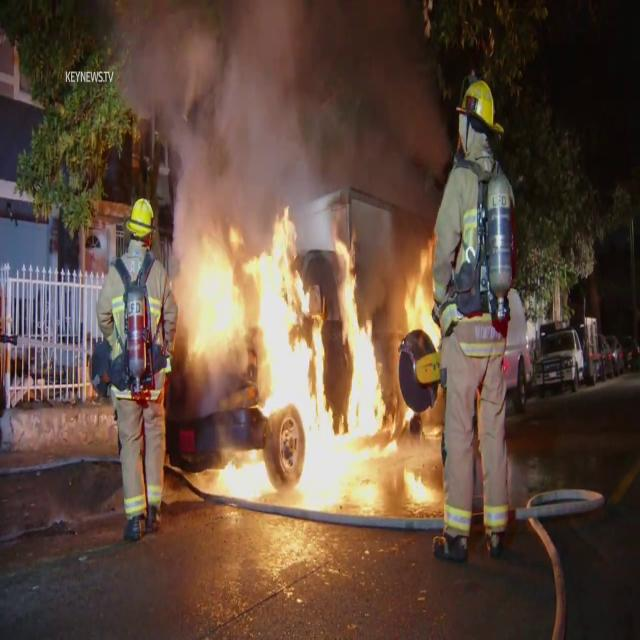Fire: (179, 203, 393, 509), (402, 244, 443, 353)
Smoke: (118, 0, 461, 219)
